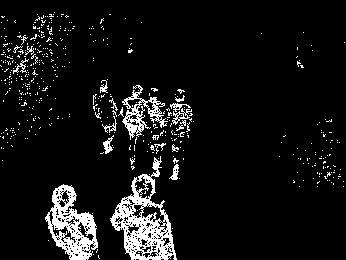person: (108, 173, 179, 259), (43, 183, 99, 260), (167, 86, 193, 183), (120, 83, 148, 170), (145, 87, 169, 178), (92, 78, 119, 155)
